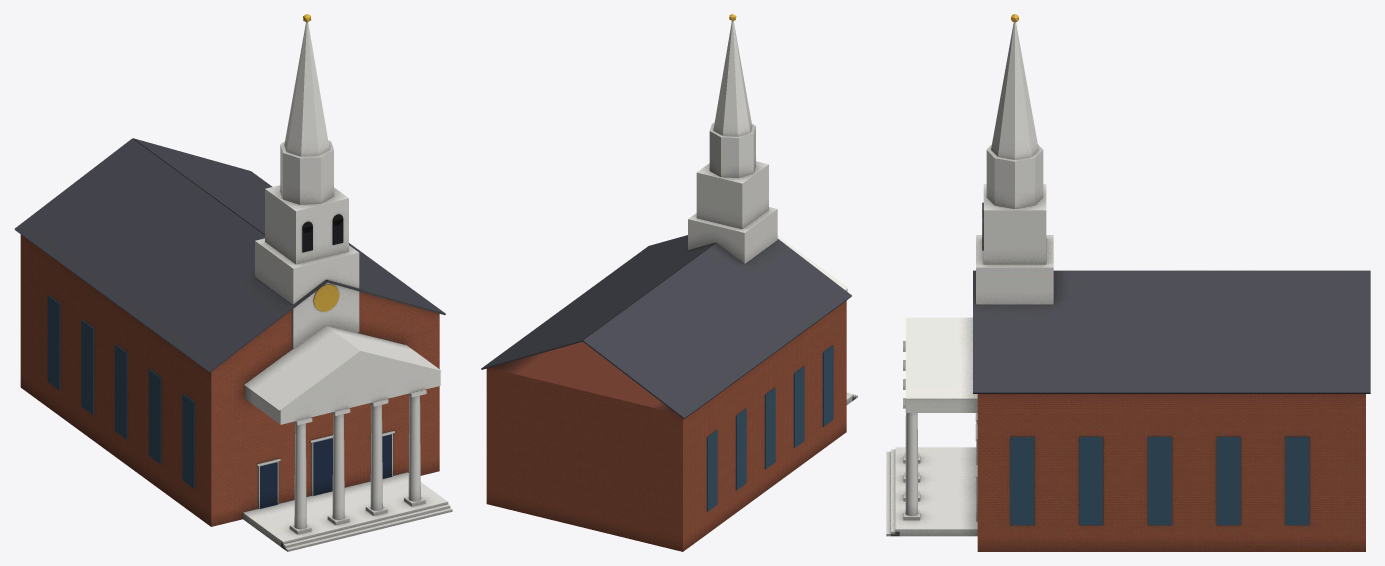
The model's file is center_church.glb.
The picture shows the model from 3 angles, left to right: view 1: azimuth 30°, elevation 25°; view 2: azimuth 150°, elevation 25°; view 3: azimuth 270°, elevation 25°; orthographic projection. The views are drawn at different scales.
Visible parts, largest first — view 1: center_church; view 2: center_church; view 3: center_church.
Boxes of the visible parts, x1,y1,x2,y2 form: center_church: (14,14,452,551); center_church: (481,14,857,551); center_church: (886,14,1370,551).
Size of the model in its own units: 18.65 by 35.52 by 32.4.
1 material, 1 textured.
